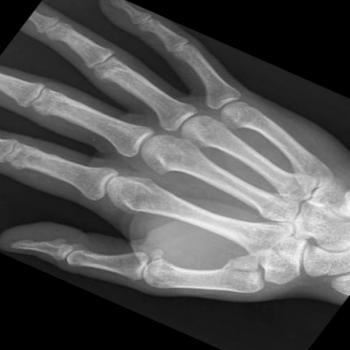Fracture: (216, 255, 264, 277)
